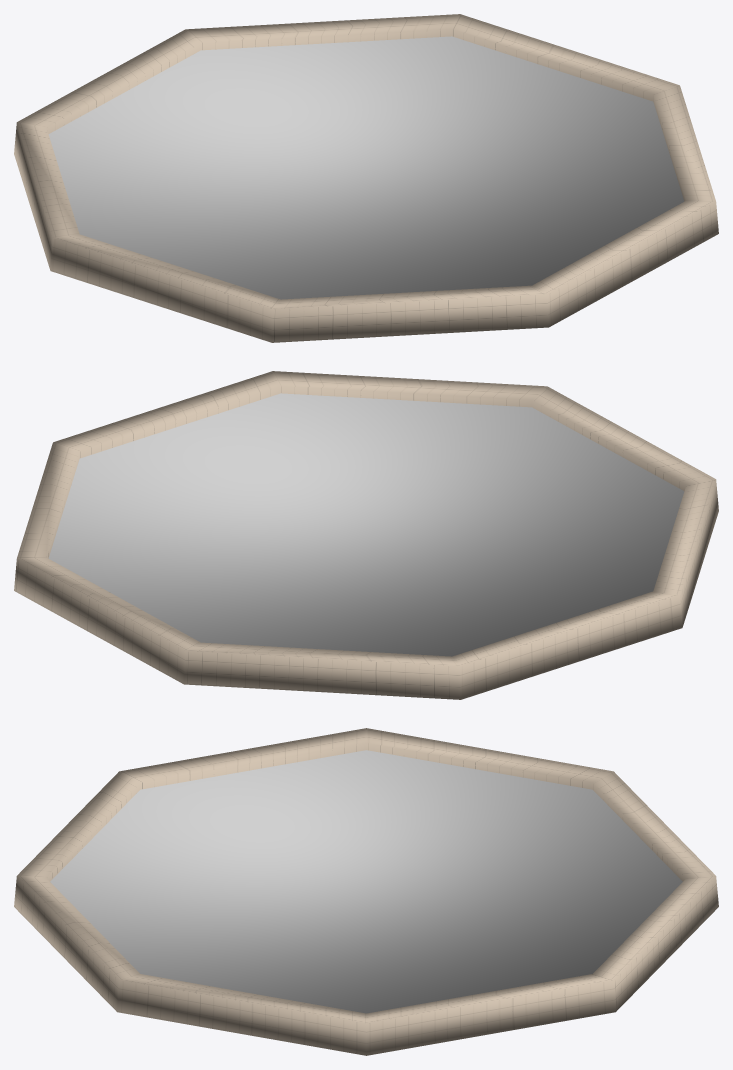
File: PotPohon.fbx
3 renders of one model, top to bottom at view 1: azimuth 30°, elevation 25°; view 2: azimuth 150°, elevation 25°; view 3: azimuth 270°, elevation 25°, orthographic. The views are drawn at different scales.
Parts seen in each view (by area): view 1: PotPohon_LOD0; view 2: PotPohon_LOD0; view 3: PotPohon_LOD0.
Boxes of the visible parts, box(x1,y1,x2,y2) form: PotPohon_LOD0: box(14, 14, 718, 342); PotPohon_LOD0: box(14, 371, 718, 699); PotPohon_LOD0: box(14, 728, 718, 1055).
Size of what is drawn, in the model's own units: 307 by 14.93 by 307.
